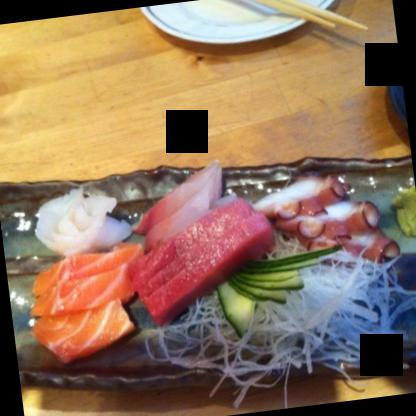salmon: (19, 232, 159, 365)
tuna: (116, 195, 281, 326)
